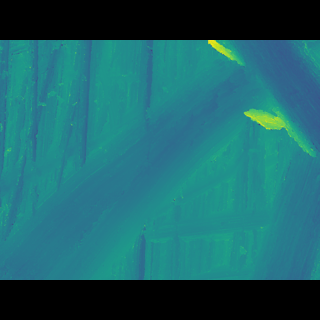Loch: (0, 70, 320, 248)
